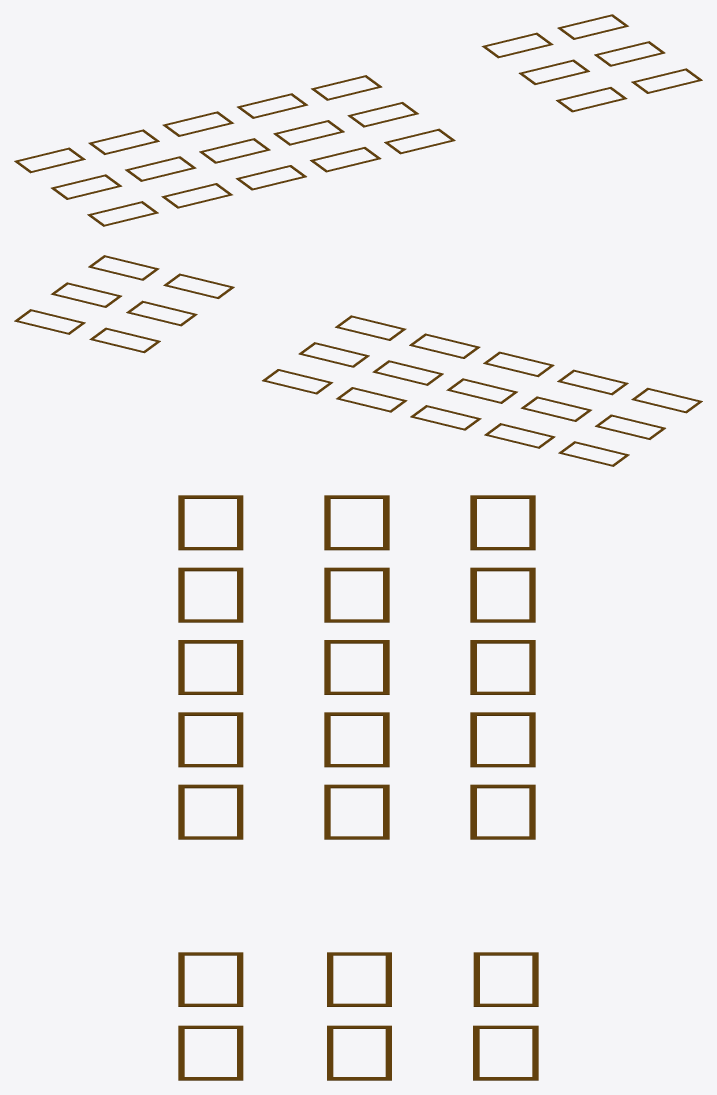
The model's file is GC-停放点.fbx.
3 renders of one model, top to bottom at view 1: azimuth 30°, elevation 25°; view 2: azimuth 150°, elevation 25°; view 3: azimuth 270°, elevation 25°, orthographic. The views are drawn at different scales.
Parts seen in each view (by area): view 1: GC-停放点; view 2: GC-停放点; view 3: GC-停放点.
Boxes of the visible parts, x1,y1,x2,y2 form: GC-停放点: (14, 14, 702, 226); GC-停放点: (14, 255, 702, 466); GC-停放点: (178, 495, 538, 1080).
Bounding box in the file's own units: 29.14 × 7.6 × 0.0164.
